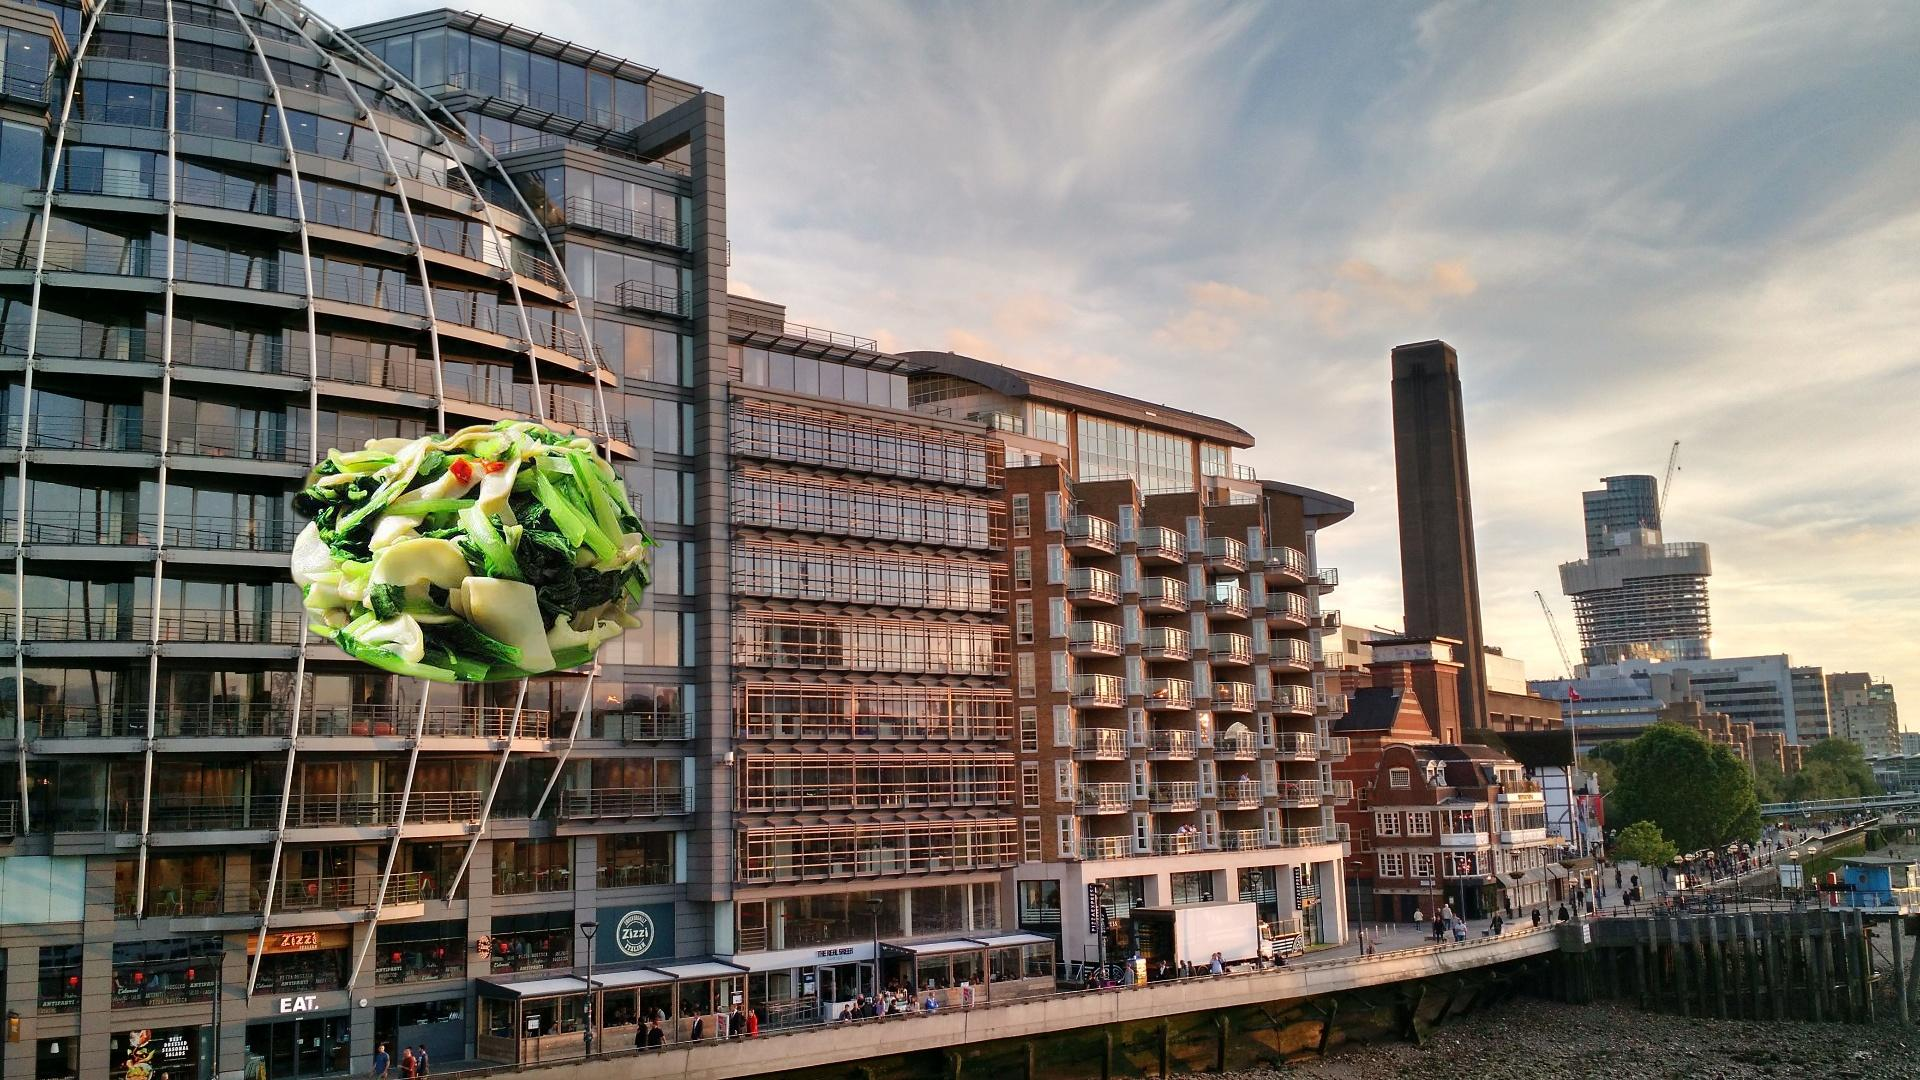biological: (282, 417, 703, 707)
